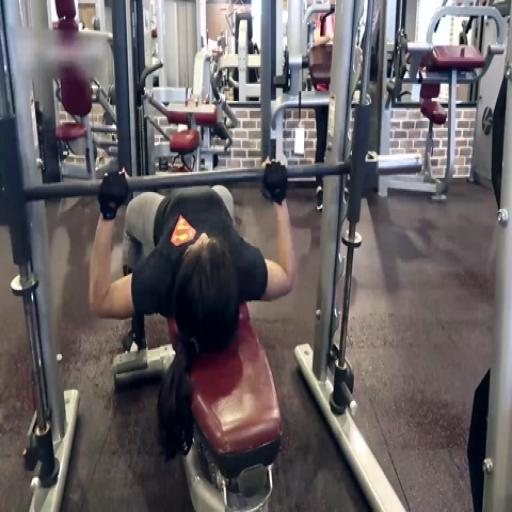exercise: (86, 155, 299, 461)
